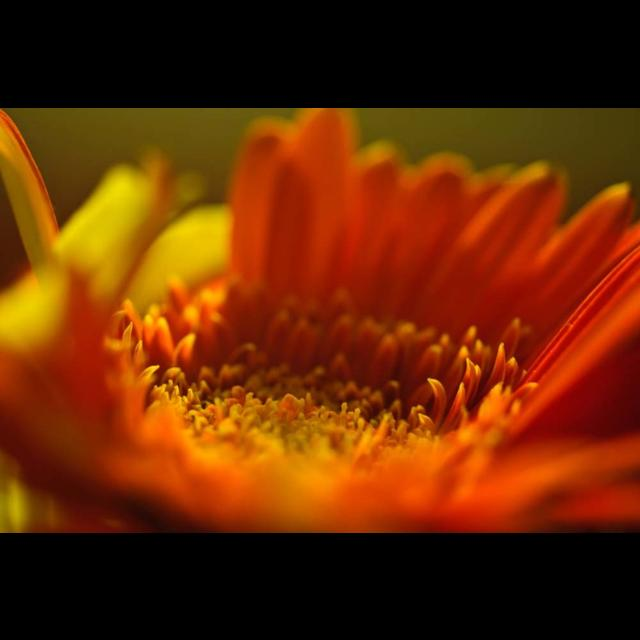Flower: (1, 108, 640, 532)
